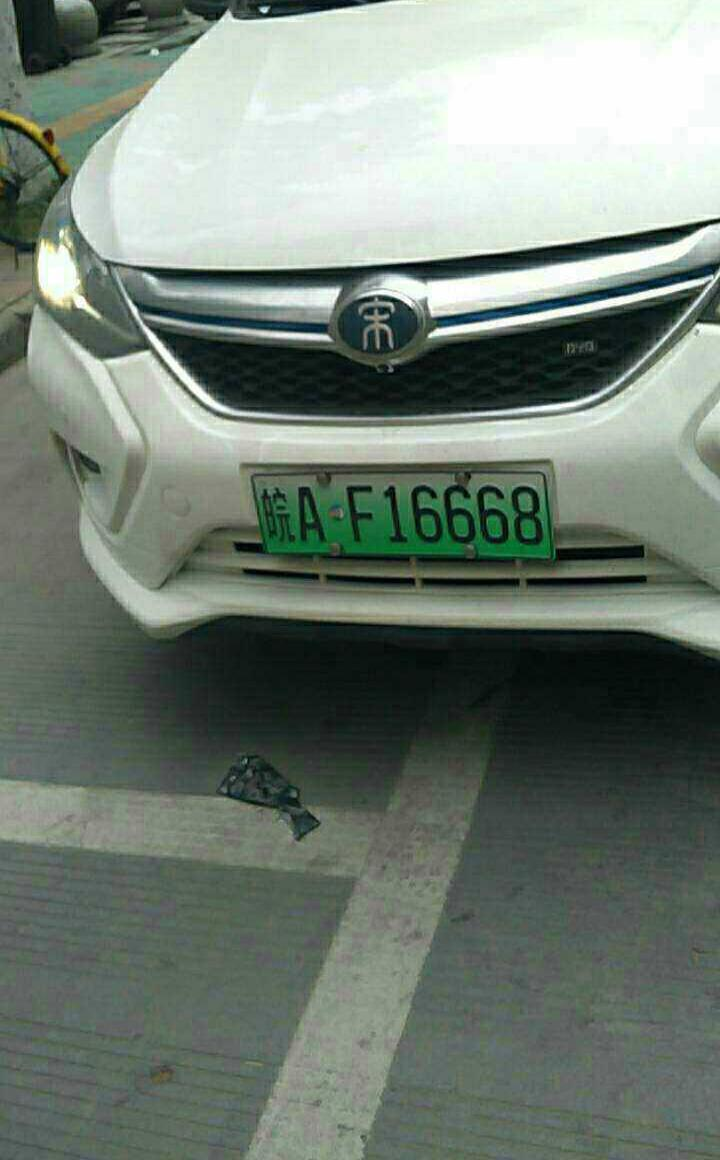car_id: (251, 470, 554, 555)
